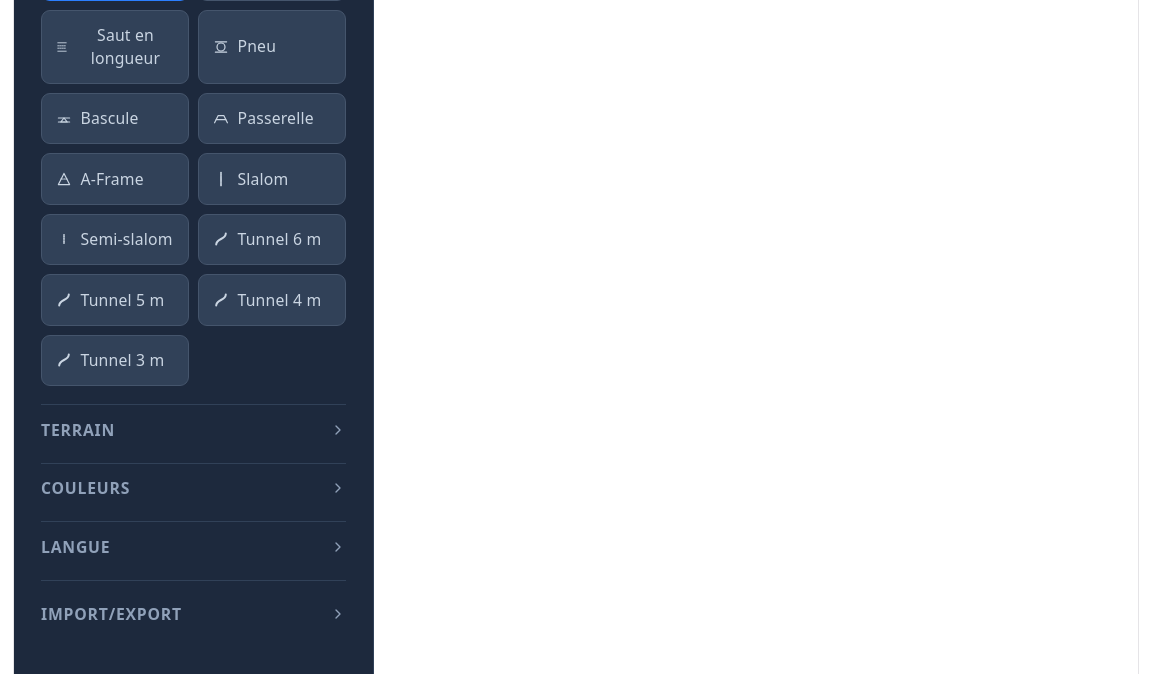
Scenario: Sidebar accessibilité › l'accordéon ouvre une seule section à la fois (outils ouvert par défaut)
The width and height of the screenshot is (1152, 674).
(page scrolled)
Click the button "Couleurs" at coordinates (86, 488), box top-left (41, 464), bottom-right (346, 513)
(page scrolled)
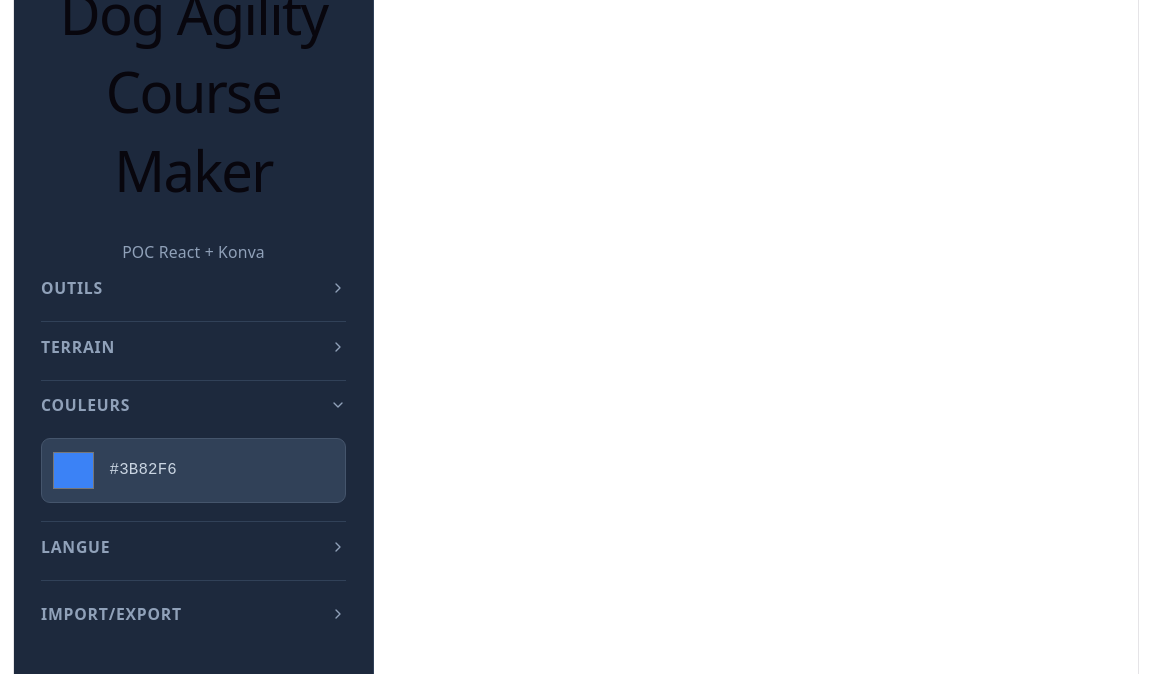
Result: the button "Couleurs" is expanded at top-left (41, 381), bottom-right (346, 430)
Result: the button "Outils" is collapsed at top-left (41, 264), bottom-right (346, 313)
